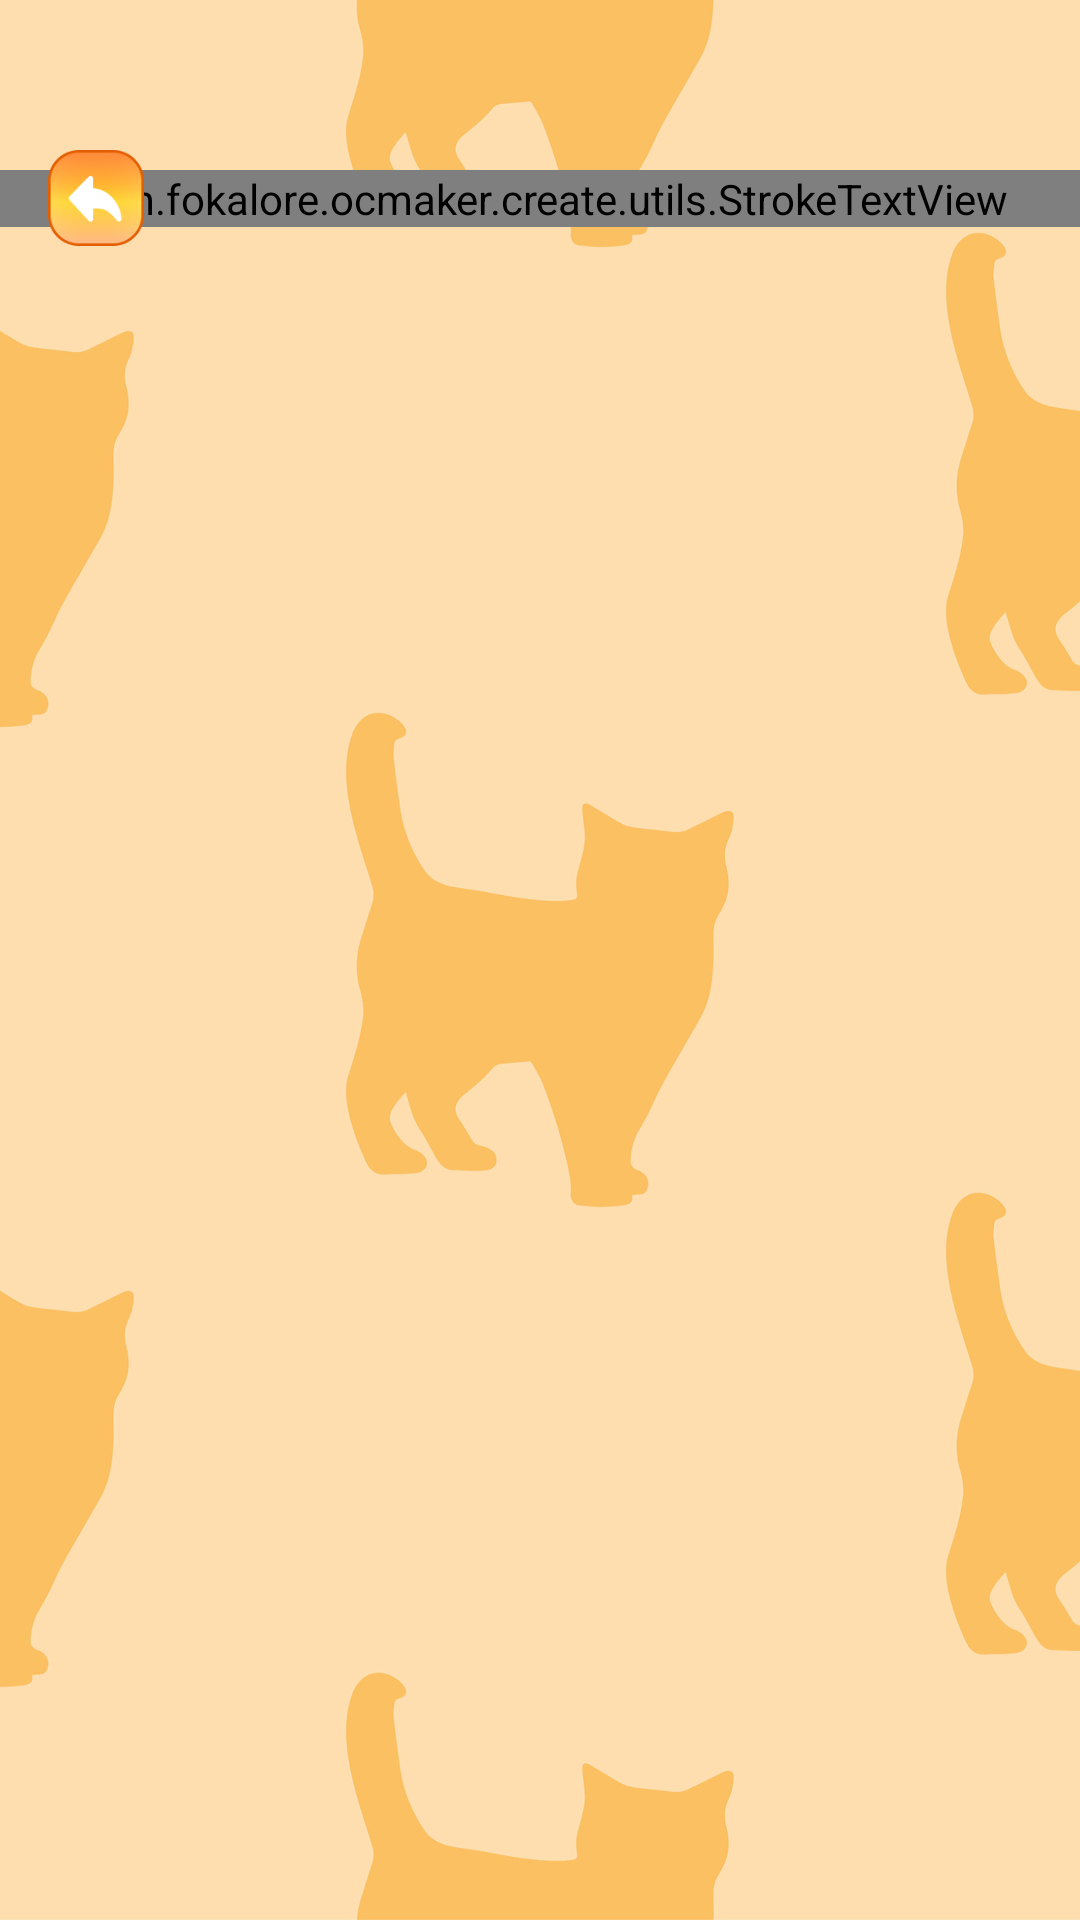

Icons on this 1080x1920 Android screen, each with its box as bbox=[x1, y1, x2, y2]:
back app: bbox=[48, 150, 144, 246]
